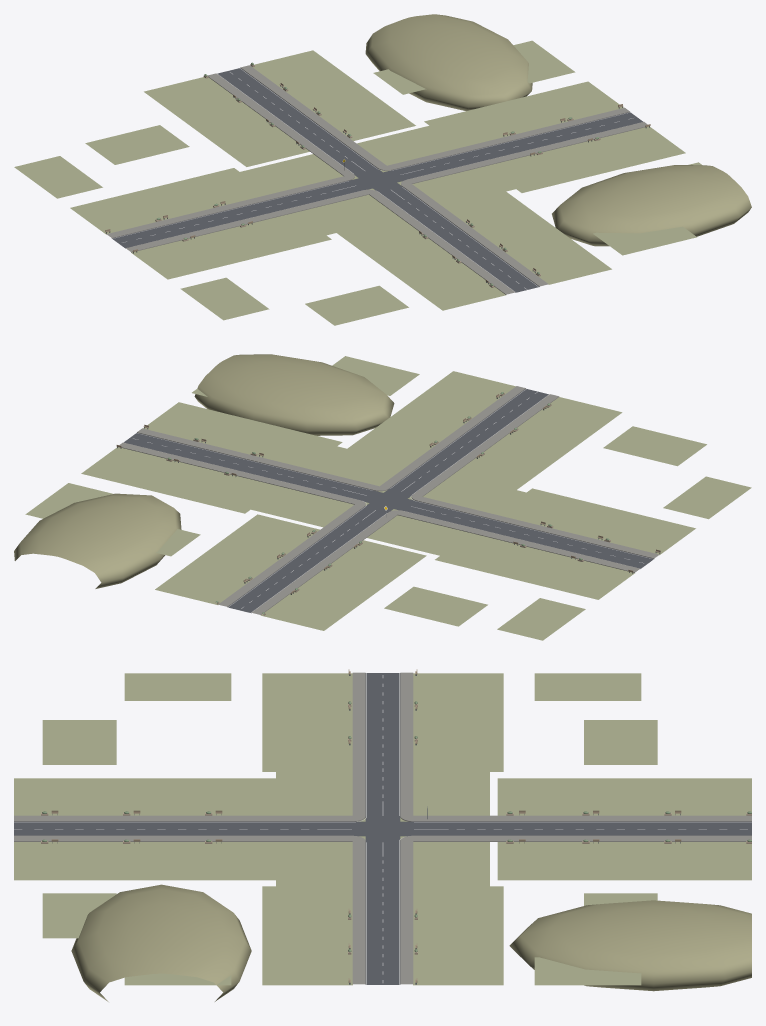
3 renders of one model, top to bottom at view 1: azimuth 30°, elevation 25°; view 2: azimuth 150°, elevation 25°; view 3: azimuth 270°, elevation 25°, orthographic. The views are drawn at different scales.
Parts seen in each view (by area): view 1: static; view 2: static; view 3: static.
Part boxes in pixels (<box>): static: <box>14,14,751,325</box>; static: <box>14,354,751,640</box>; static: <box>14,669,751,1001</box>.
Size of what is drawn, in the model's own units: 180 by 14.08 by 180.
3 materials, 2 textured.
